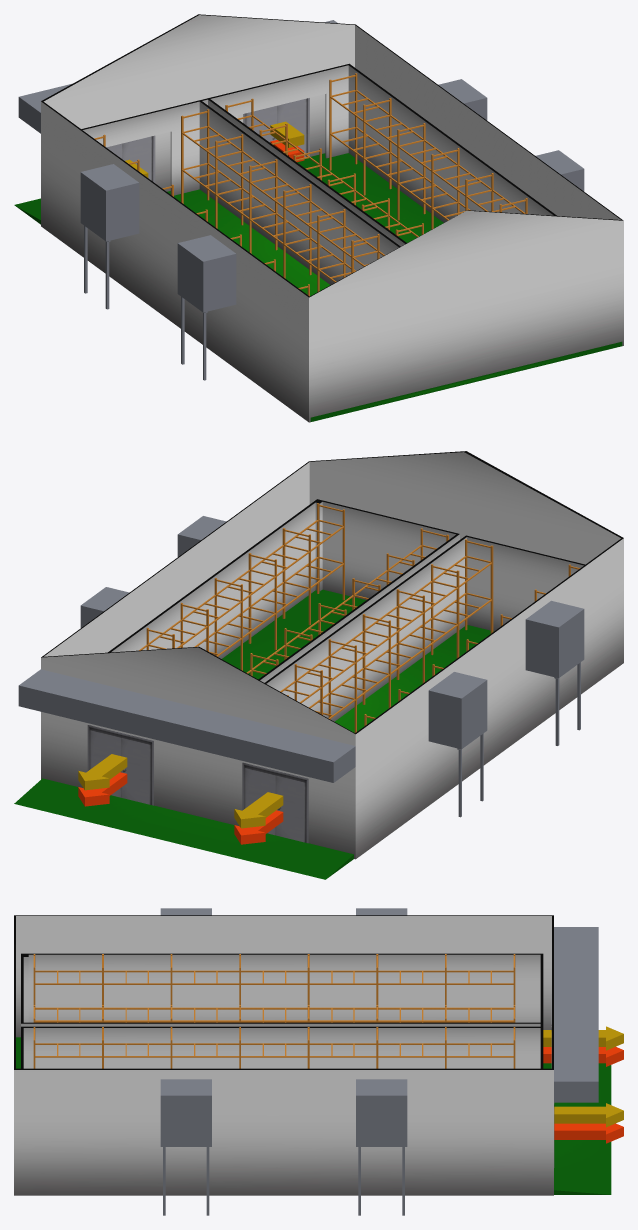
Rendered from soubrain_T1-13-1F.glb.
The picture shows the model from 3 angles, top to bottom: view 1: azimuth 30°, elevation 25°; view 2: azimuth 150°, elevation 25°; view 3: azimuth 270°, elevation 25°; orthographic projection.
Visible parts, largest first — view 1: Line033, Line031, Rectangle1073, Line029, T1-13-1F; view 2: Line033, Line031, Line029, Rectangle1073, T1-13-1F, arrow_Y_2_T1-13-1F, arrow_Y_1_T1-13-1F, arrow_R_1_T1-13-1F, arrow_R_2_T1-13-1F; view 3: Line033, Line031, Rectangle1073, Line029, arrow_Y_2_T1-13-1F, arrow_R_2_T1-13-1F, arrow_Y_1_T1-13-1F, arrow_R_1_T1-13-1F.
Boxes of the visible parts, box(x1,y1,x2,y2) form: Line033: box(18, 14, 623, 422); Line031: box(81, 63, 556, 284); Rectangle1073: box(94, 73, 527, 296); Line029: box(14, 153, 622, 421); T1-13-1F: box(106, 98, 309, 182); Line033: box(18, 451, 623, 859); Line031: box(108, 499, 584, 721); Line029: box(14, 589, 493, 879); Rectangle1073: box(139, 503, 579, 732); T1-13-1F: box(87, 724, 308, 843); arrow_Y_2_T1-13-1F: box(78, 754, 127, 790); arrow_Y_1_T1-13-1F: box(234, 792, 283, 828); arrow_R_1_T1-13-1F: box(234, 810, 283, 844); arrow_R_2_T1-13-1F: box(78, 772, 127, 806); Line033: box(14, 908, 598, 1215); Line031: box(21, 953, 543, 1068); Rectangle1073: box(33, 954, 515, 1068); Line029: box(16, 1037, 611, 1194); arrow_Y_2_T1-13-1F: box(554, 1103, 623, 1127); arrow_R_2_T1-13-1F: box(554, 1123, 623, 1143); arrow_Y_1_T1-13-1F: box(543, 1026, 623, 1050); arrow_R_1_T1-13-1F: box(543, 1046, 623, 1066).
Bounding box in the file's own units: 17.25 × 7.7 × 23.75.
8 materials, 5 textured.
